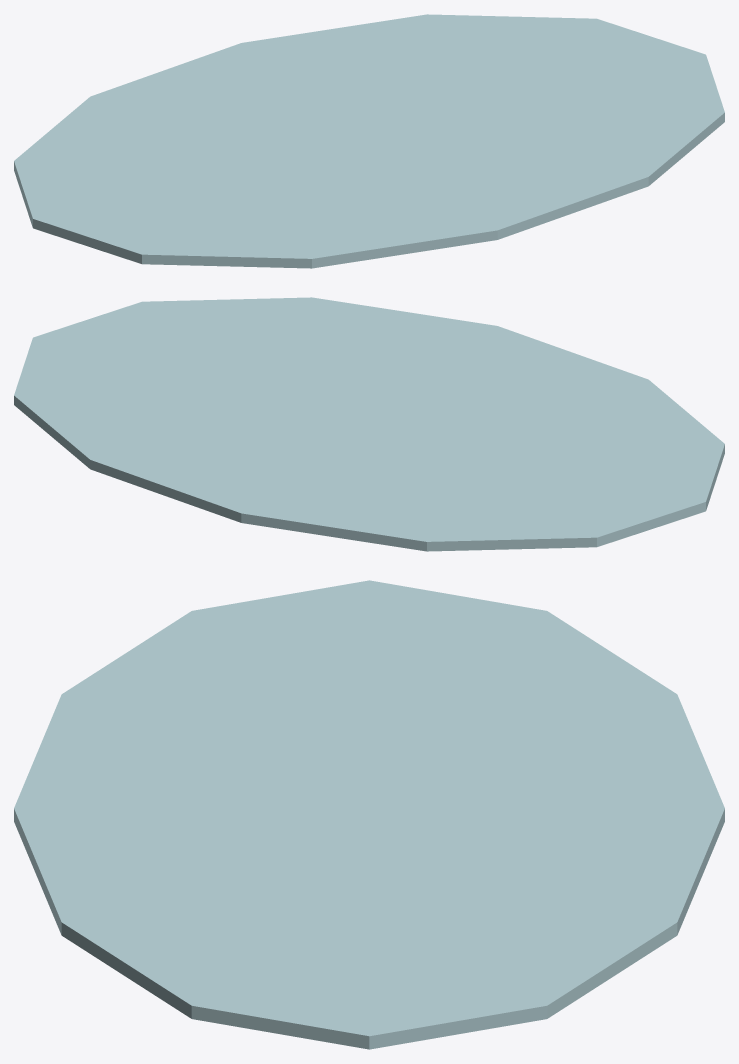
3 renders of one model, top to bottom at view 1: azimuth 30°, elevation 25°; view 2: azimuth 150°, elevation 25°; view 3: azimuth 270°, elevation 25°, orthographic. The views are drawn at different scales.
Size of the model in its own units: 88 by 1.2 by 58.
